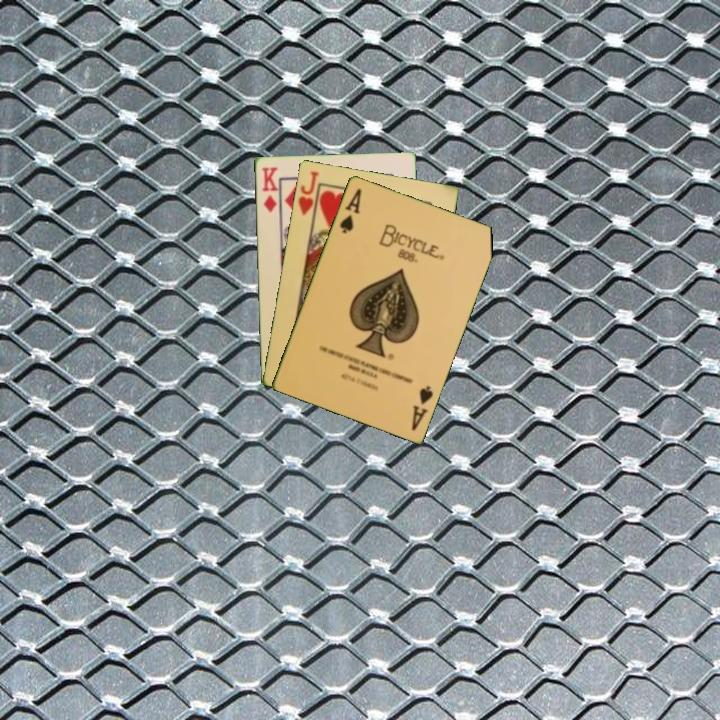As: (407, 382, 436, 433), (336, 185, 364, 236)
Jh: (294, 167, 321, 218)
Kd: (258, 163, 280, 215)
